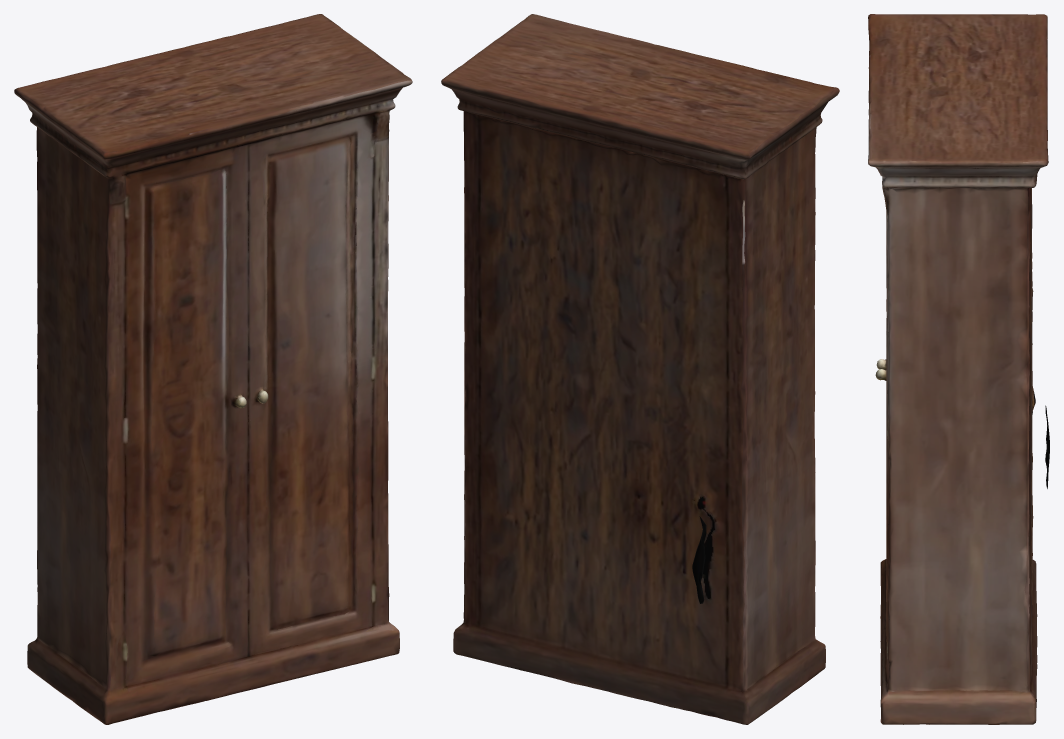
3 renders of one model, left to right at view 1: azimuth 30°, elevation 25°; view 2: azimuth 150°, elevation 25°; view 3: azimuth 270°, elevation 25°, orthographic.
Parts seen in each view (by area): view 1: Mesh_0; view 2: Mesh_0; view 3: Mesh_0.
Part boxes in pixels (x1,y1,x2,y2): Mesh_0: (14, 14, 412, 724); Mesh_0: (441, 14, 839, 724); Mesh_0: (868, 14, 1049, 724).
Size of the model in its own units: 1.06 by 1.9 by 0.5512.
1 material, 1 textured.
